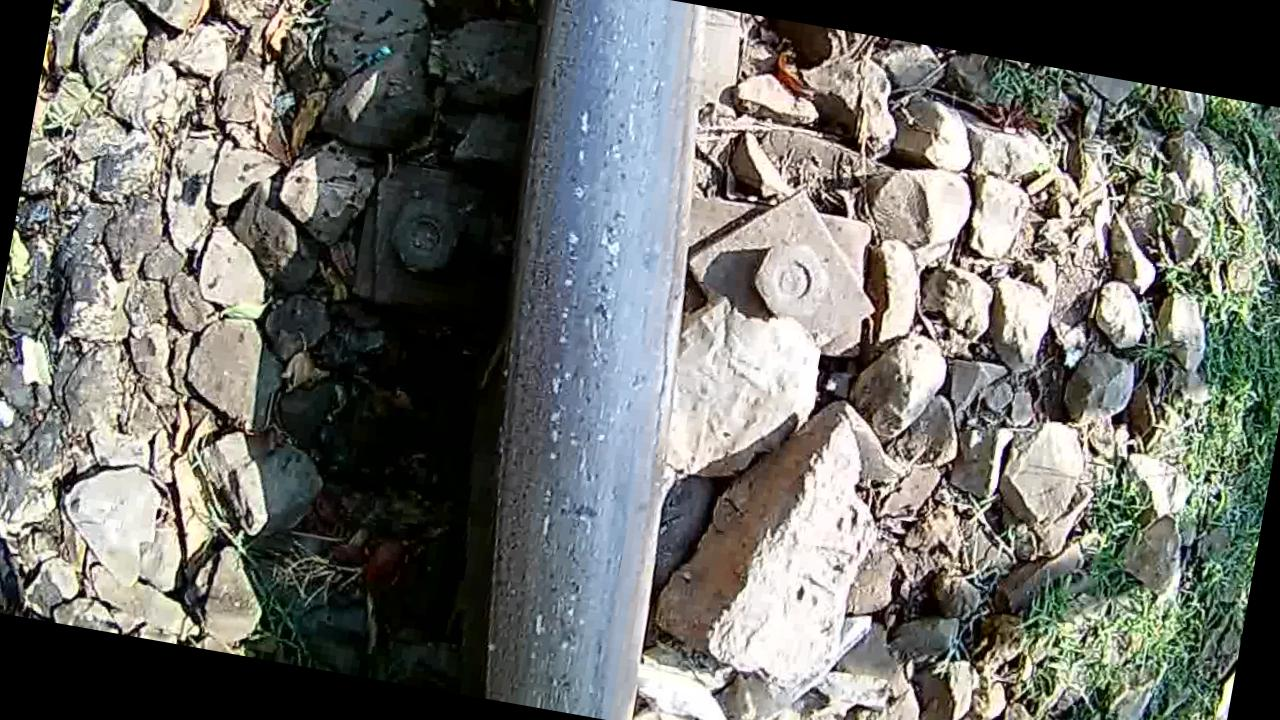clip_missing: (427, 0, 741, 720)
